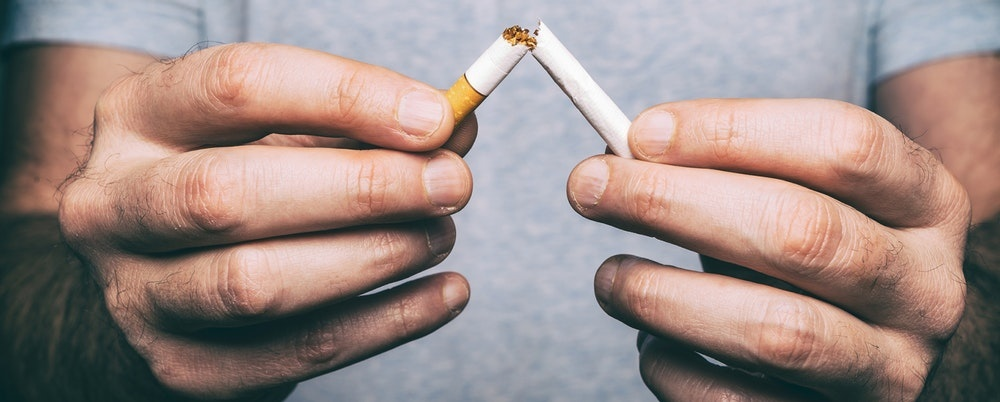sigaretta: (442, 24, 667, 179)
